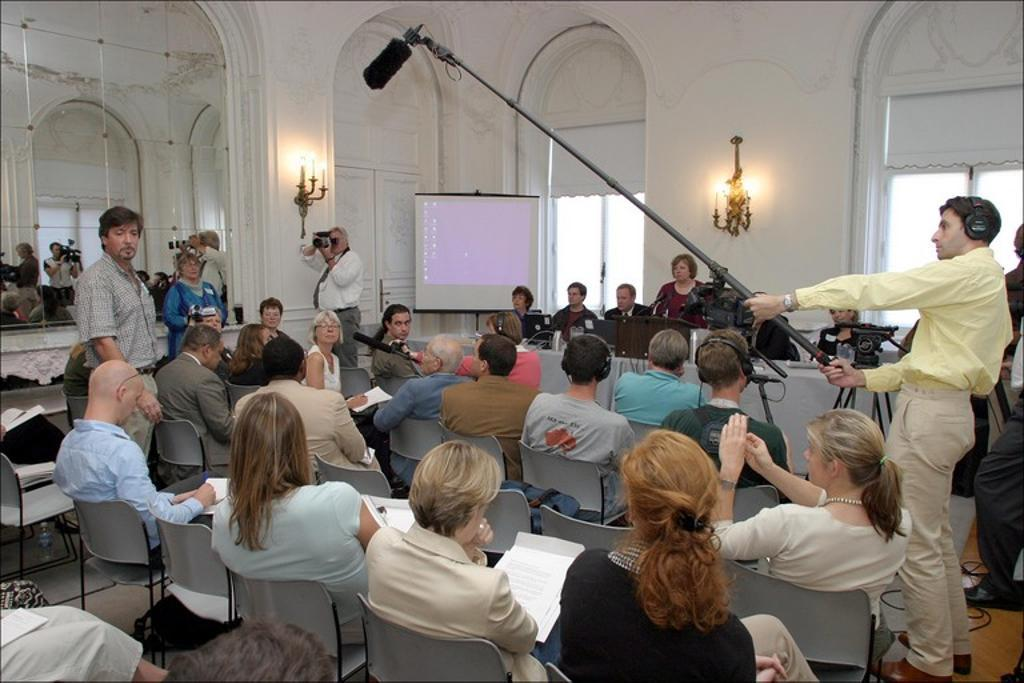face: (931, 204, 968, 260), (803, 428, 830, 486), (108, 222, 140, 259), (118, 383, 144, 427), (470, 343, 490, 378), (421, 343, 441, 375), (318, 318, 340, 343), (206, 340, 224, 370), (391, 313, 410, 340), (831, 303, 851, 327), (202, 313, 221, 337), (262, 307, 281, 329), (255, 332, 269, 361), (327, 233, 343, 255), (616, 288, 631, 311), (674, 261, 689, 282), (183, 260, 199, 279), (568, 286, 581, 306), (513, 292, 526, 309), (53, 246, 61, 258), (19, 247, 25, 259)
